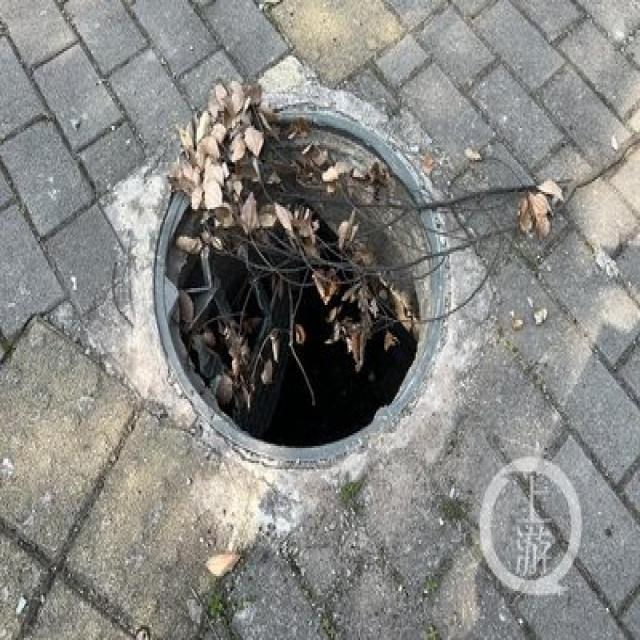manhole: (146, 90, 459, 480)
